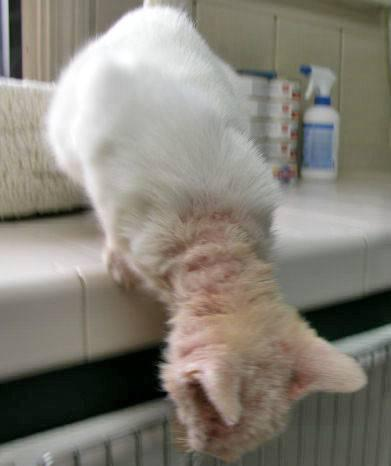cat: (46, 2, 365, 460)
